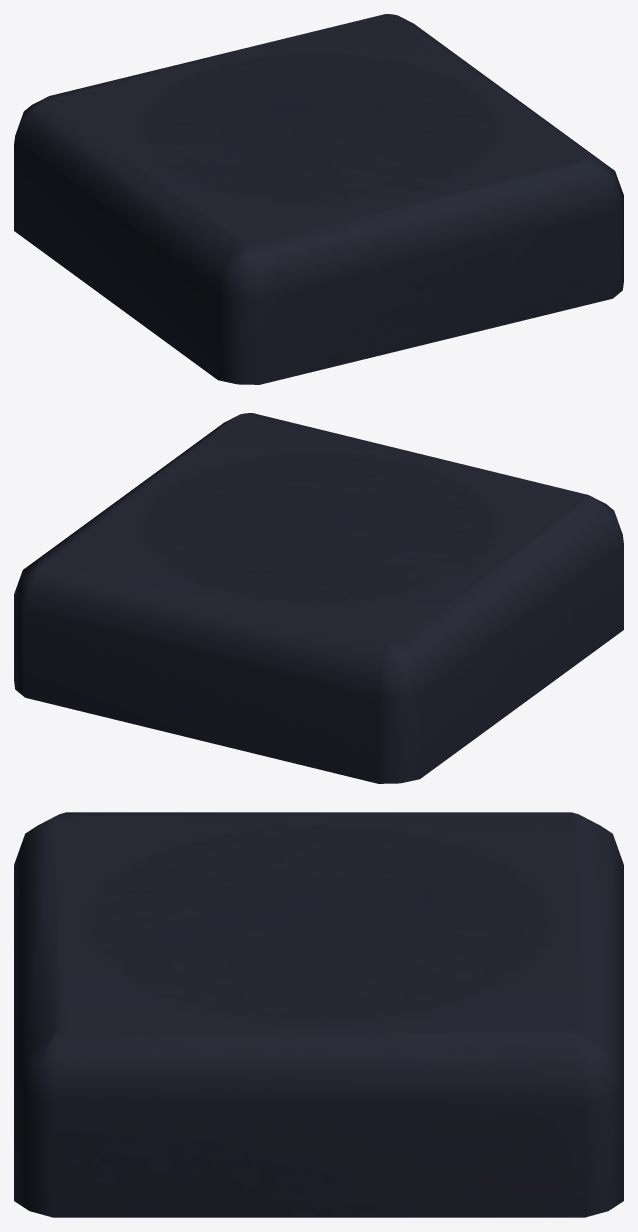
File: Button 2.fbx
The picture shows the model from 3 angles, top to bottom: view 1: azimuth 30°, elevation 25°; view 2: azimuth 150°, elevation 25°; view 3: azimuth 270°, elevation 25°; orthographic projection. The views are drawn at different scales.
Visible parts, largest first — view 1: Button_2; view 2: Button_2; view 3: Button_2.
Boxes of the visible parts, <box> form: Button_2: <box>14,14,623,384</box>; Button_2: <box>14,413,623,783</box>; Button_2: <box>14,812,623,1217</box>.
Size of the model in its own units: 2.4 by 0.7164 by 2.4.
